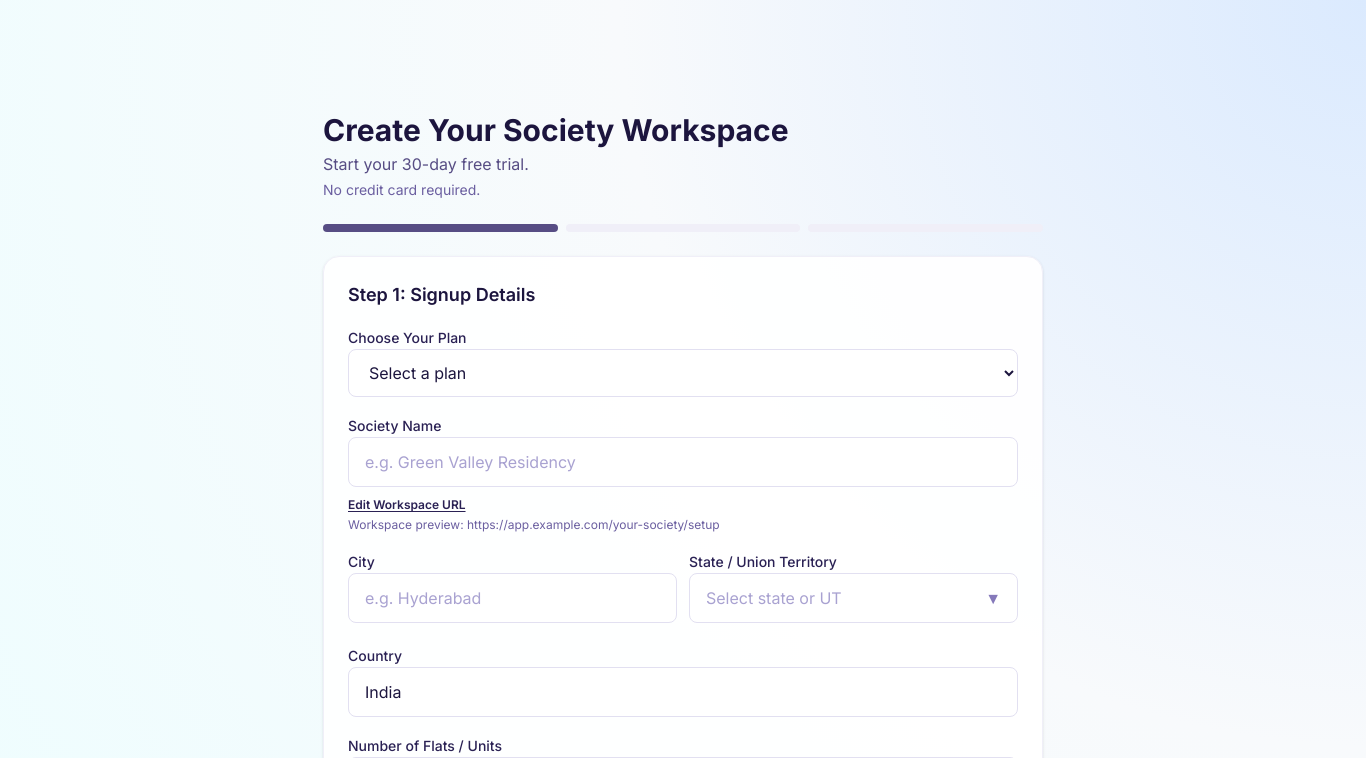
Test: SocietySignupPage › checks workspace URL availability on society name blur
Type "Blue Haven Residency" into the field labelled "Society Name".
click(683, 462); type("Blue Haven Residency")  # box top-left (348, 437), bottom-right (1018, 487)
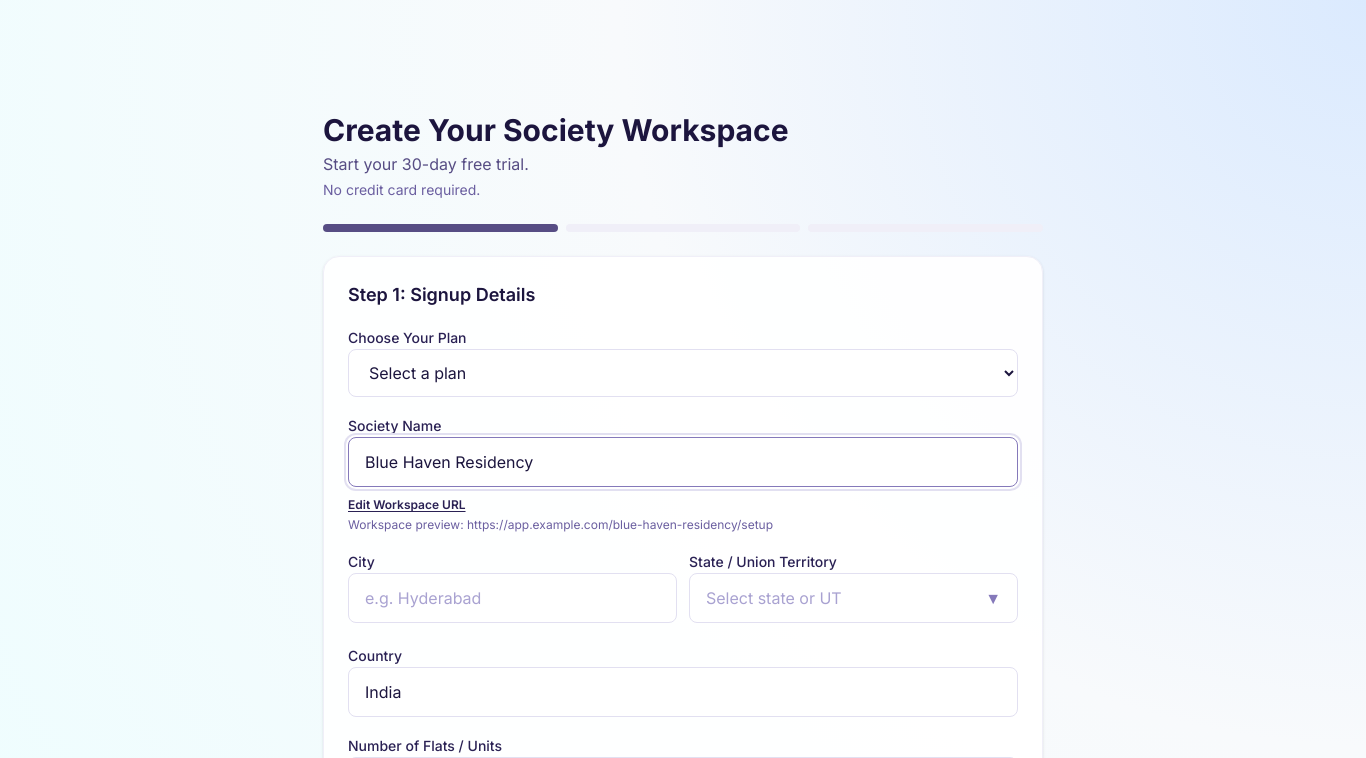
Press Tab
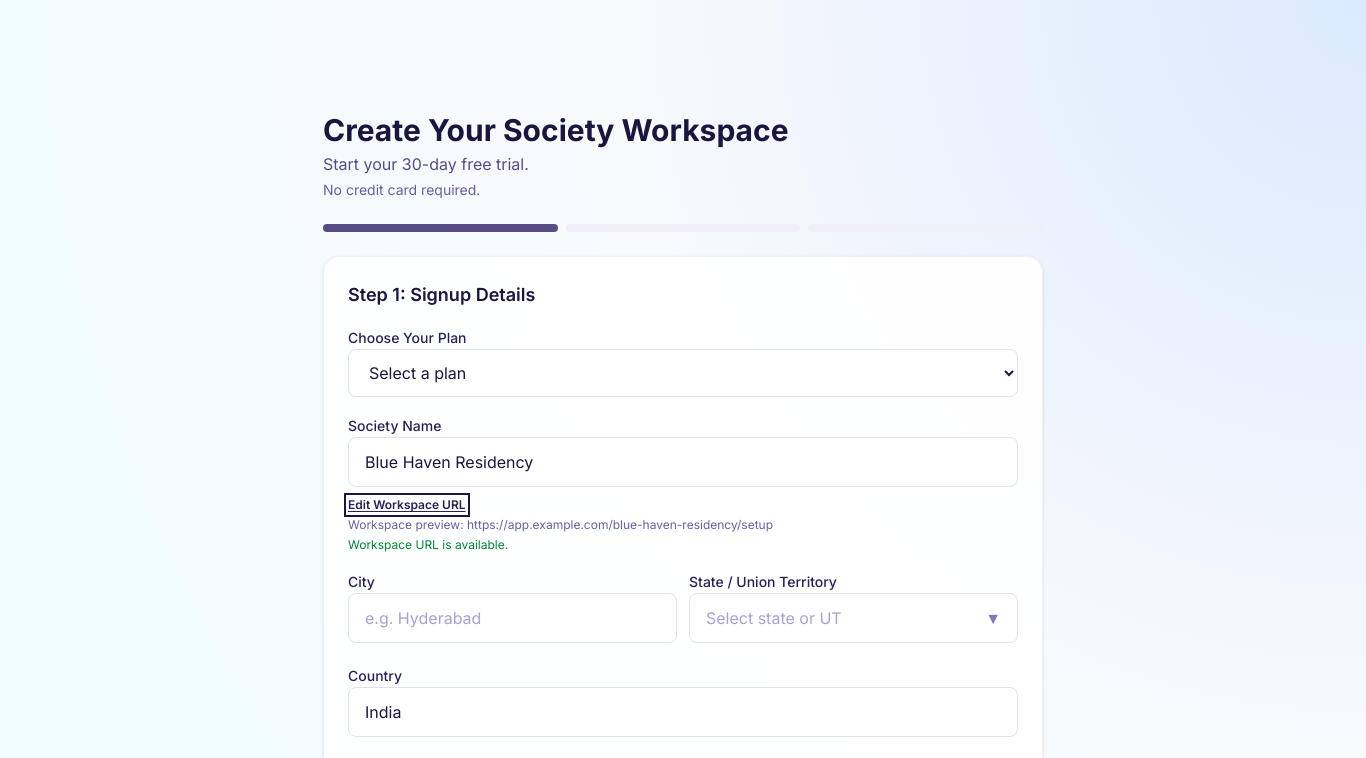
Expected: the text "Workspace preview: https://app.example.com/blue-haven-residency/setup" is shown, top-left (348, 517), bottom-right (773, 532)
Expected: the text "Workspace URL is available." is shown, top-left (348, 537), bottom-right (508, 552)
